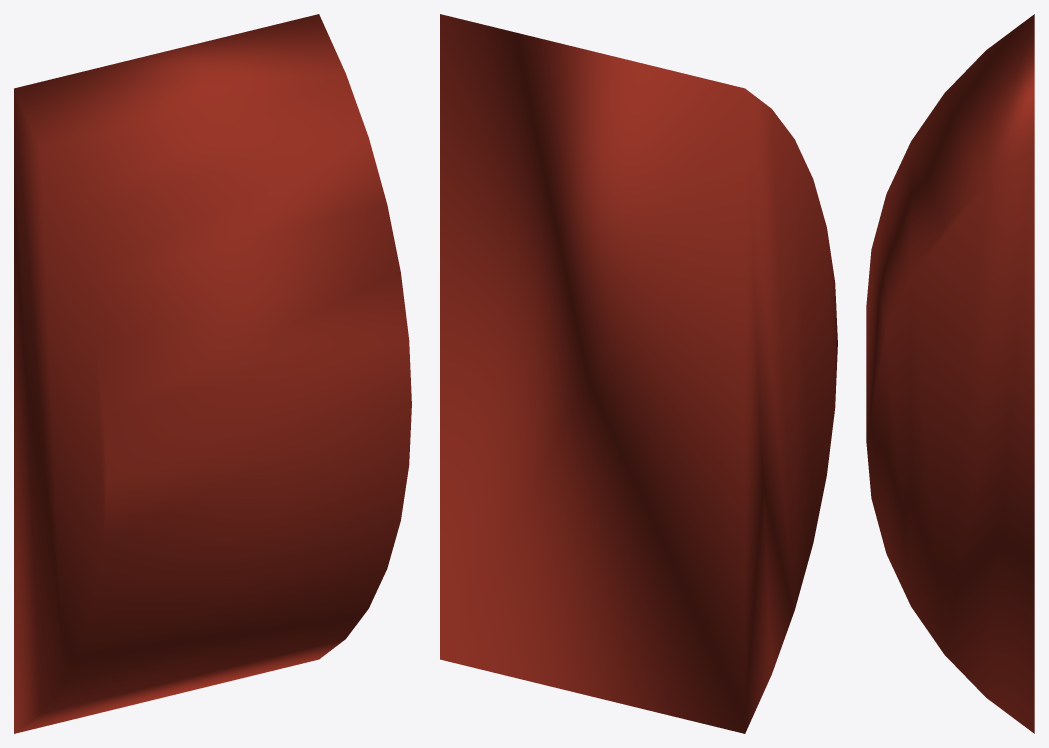
The model's file is slope.obj.
The picture shows the model from 3 angles, left to right: view 1: azimuth 30°, elevation 25°; view 2: azimuth 150°, elevation 25°; view 3: azimuth 270°, elevation 25°; orthographic projection. The views are drawn at different scales.
Visible parts, largest first — view 1: Layer0_001 Mesh; view 2: Layer0_001 Mesh; view 3: Layer0_001 Mesh.
Boxes of the visible parts, bbox=[...] form: Layer0_001 Mesh: bbox=[14, 14, 411, 733]; Layer0_001 Mesh: bbox=[440, 14, 837, 733]; Layer0_001 Mesh: bbox=[866, 14, 1034, 733].
Bounding box in the file's own units: 17.31 × 35 × 9.12.
